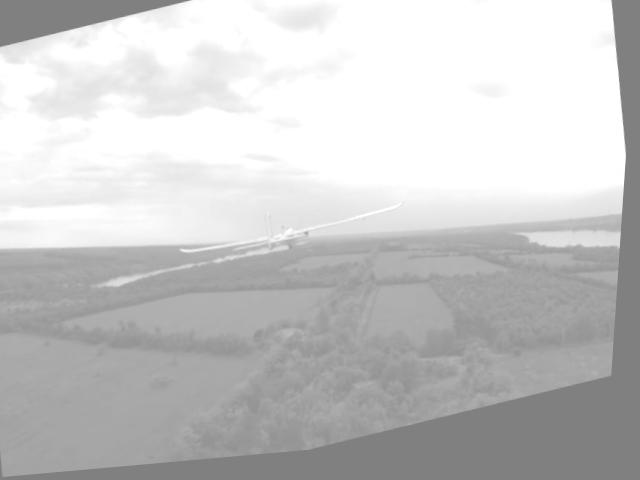hedef: (168, 179, 418, 298)
